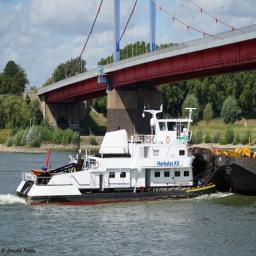tugboat: (16, 103, 222, 211)
